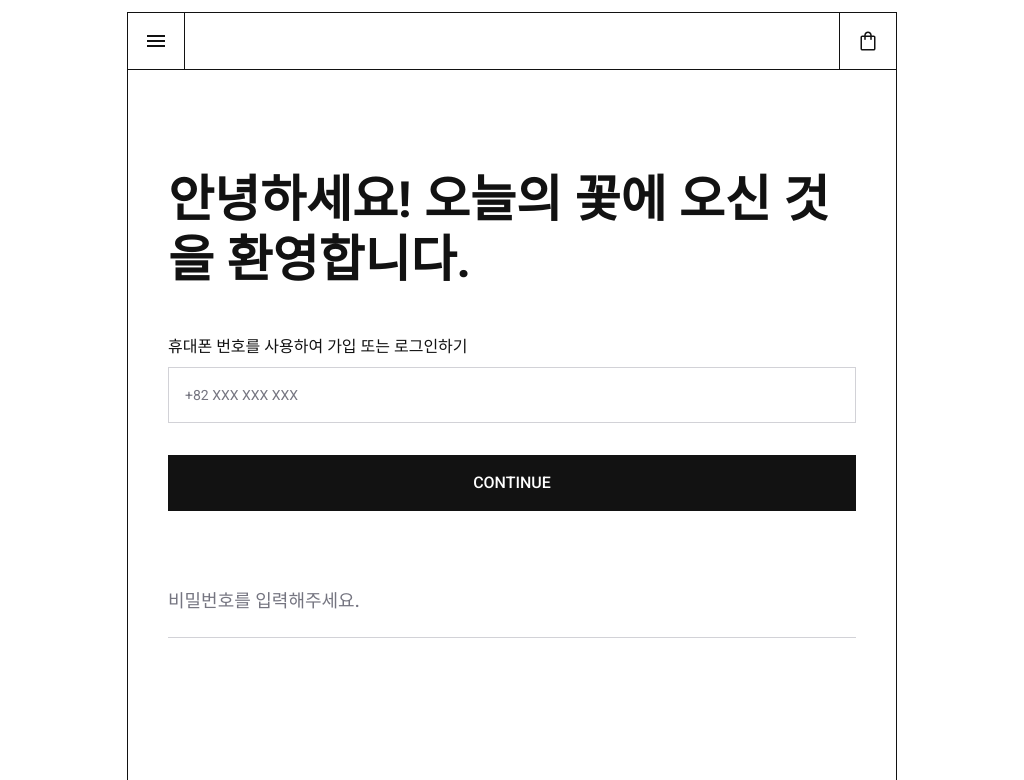
Test: 로그인 테스트 › 아이디를 입력하지 않은 경우 에러 메시지가 나타난다.
Click the button with test id "phoneBtn".
click(512, 483)  # box [168,455,856,511]
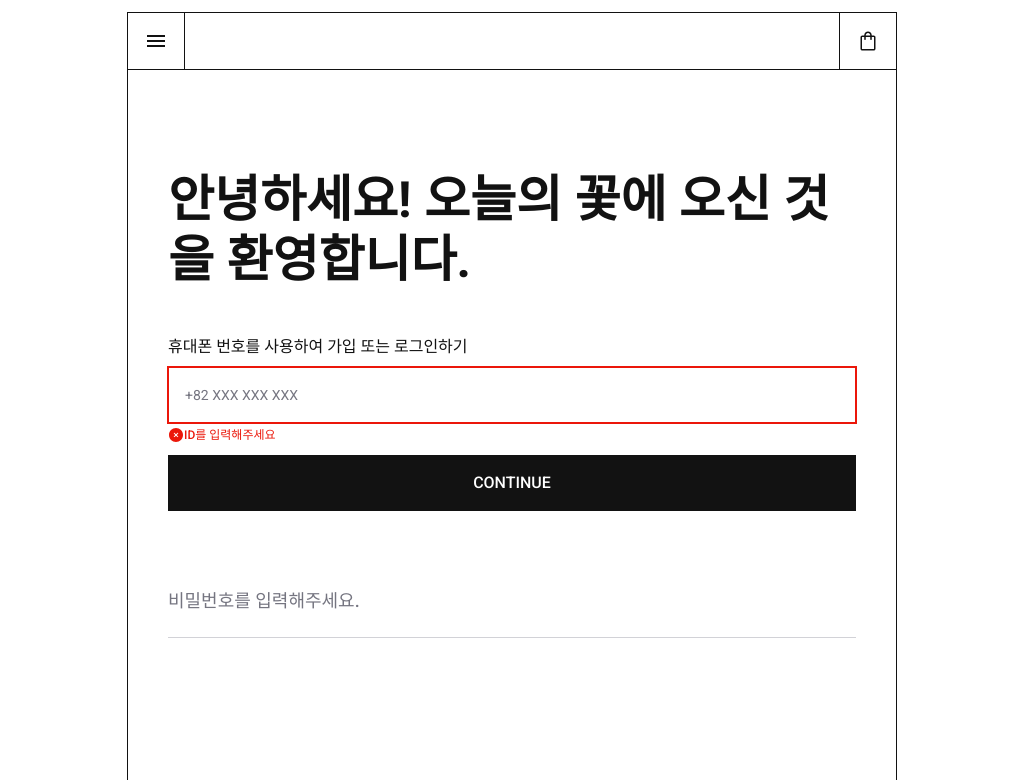
Check: the text with test id "phoneHelp" reads "ID를 입력해주세요", box [184,428,276,442]
